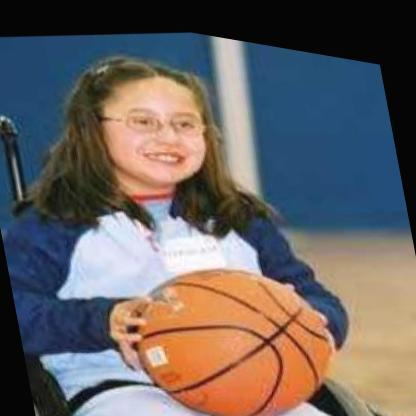basketball: (118, 219, 350, 416)
